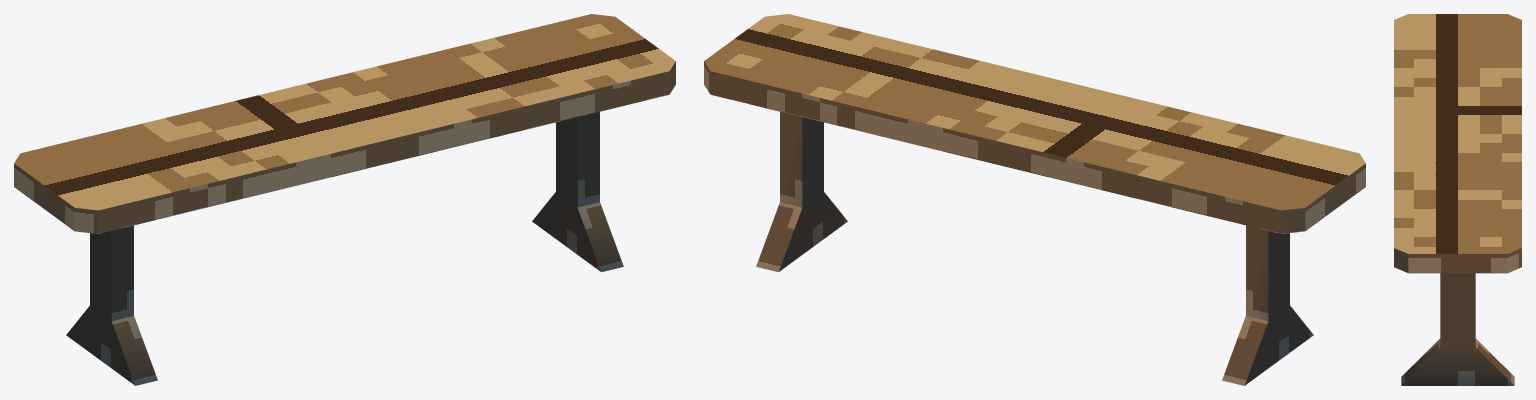
The model's file is wprop.chair__bench.glb.
3 renders of one model, left to right at view 1: azimuth 30°, elevation 25°; view 2: azimuth 150°, elevation 25°; view 3: azimuth 270°, elevation 25°, orthographic. The views are drawn at different scales.
Visible parts, largest first — view 1: kit_seat, kit_legs; view 2: kit_seat, kit_legs; view 3: kit_seat, kit_legs.
Part boxes in pixels (left/top/right/bottom): kit_seat: left=14, top=14, right=675, bottom=233; kit_legs: left=66, top=112, right=623, bottom=385; kit_seat: left=704, top=14, right=1365, bottom=233; kit_legs: left=756, top=112, right=1313, bottom=385; kit_seat: left=1394, top=14, right=1521, bottom=273; kit_legs: left=1401, top=273, right=1514, bottom=385.
Size of the model in its own units: 1.6 by 0.48 by 0.36.
Materials: 2 (2 with a texture image).
